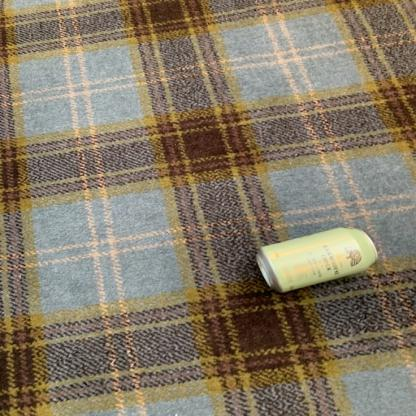trash: (253, 227, 381, 294)
